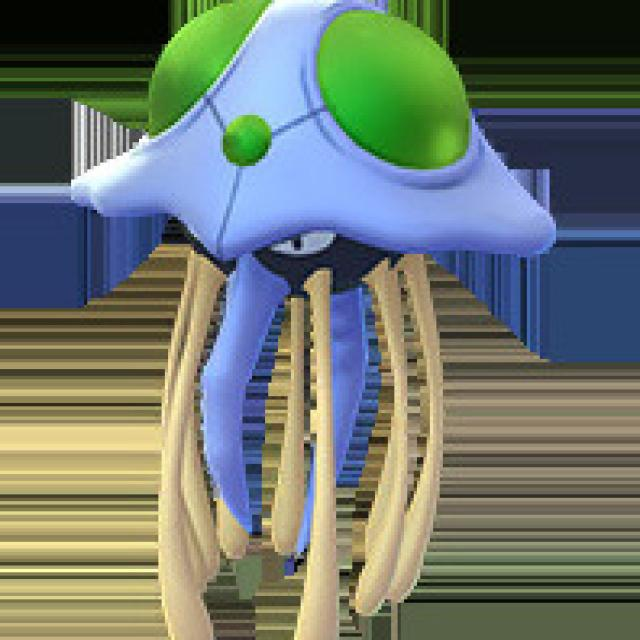Tentacruel: (134, 0, 496, 478)
